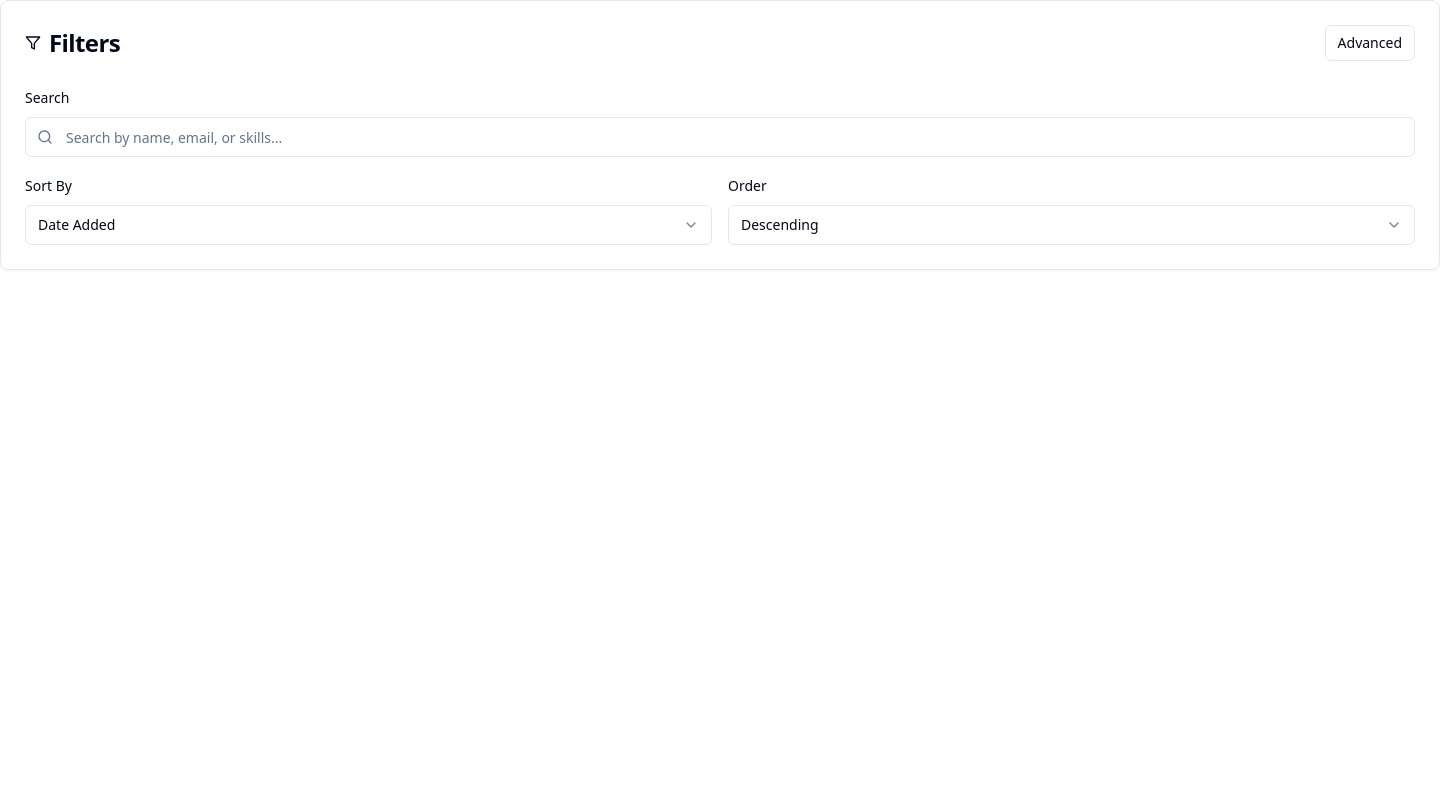
Test: CandidateFilters › adds skill when Enter key is pressed
# Show advanced filters
Click the button "Advanced" at (1370, 43), box [1325, 25, 1415, 61]
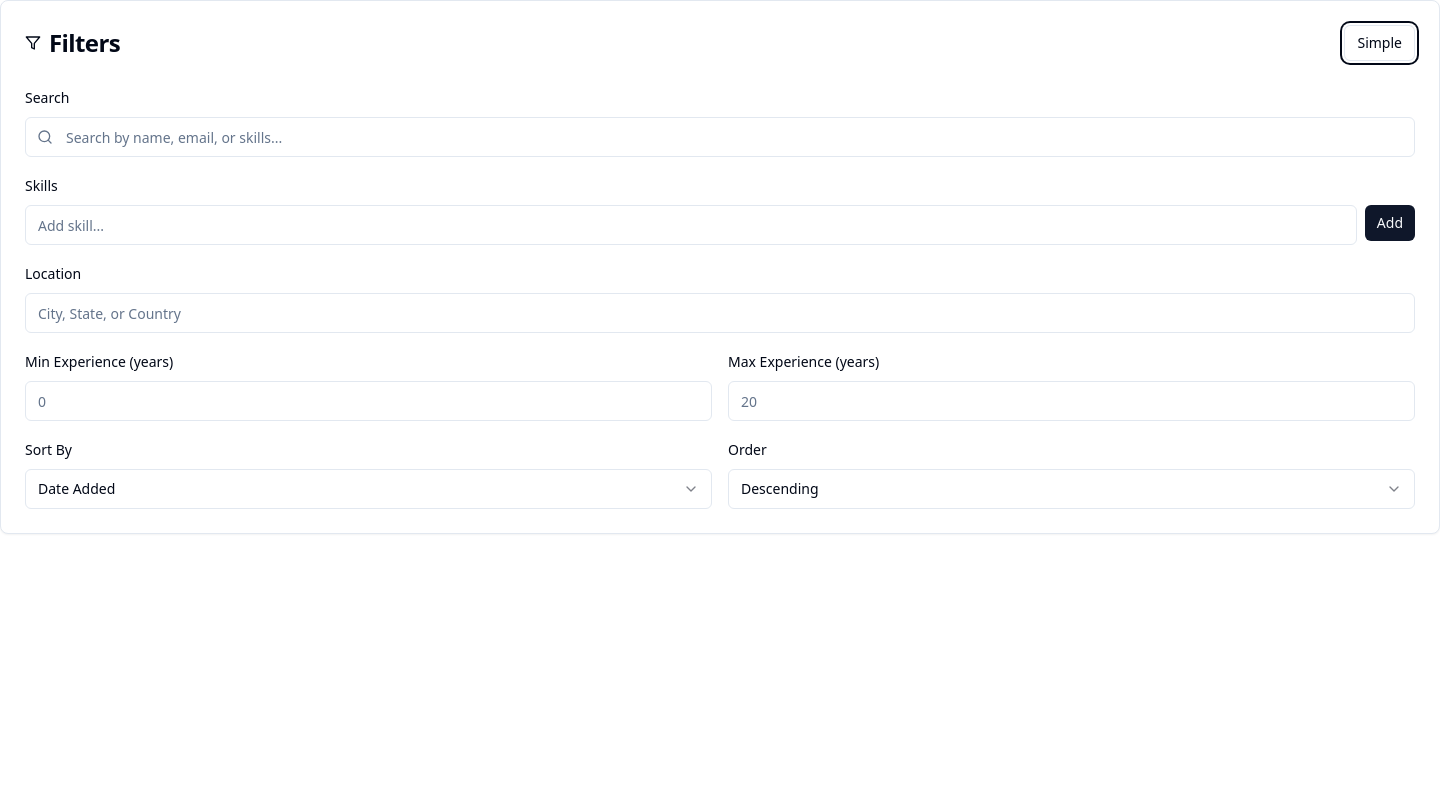
# Add a skill with Enter key
Type "React" into the field with placeholder "Add skill..." at (691, 225), box [25, 205, 1357, 245]
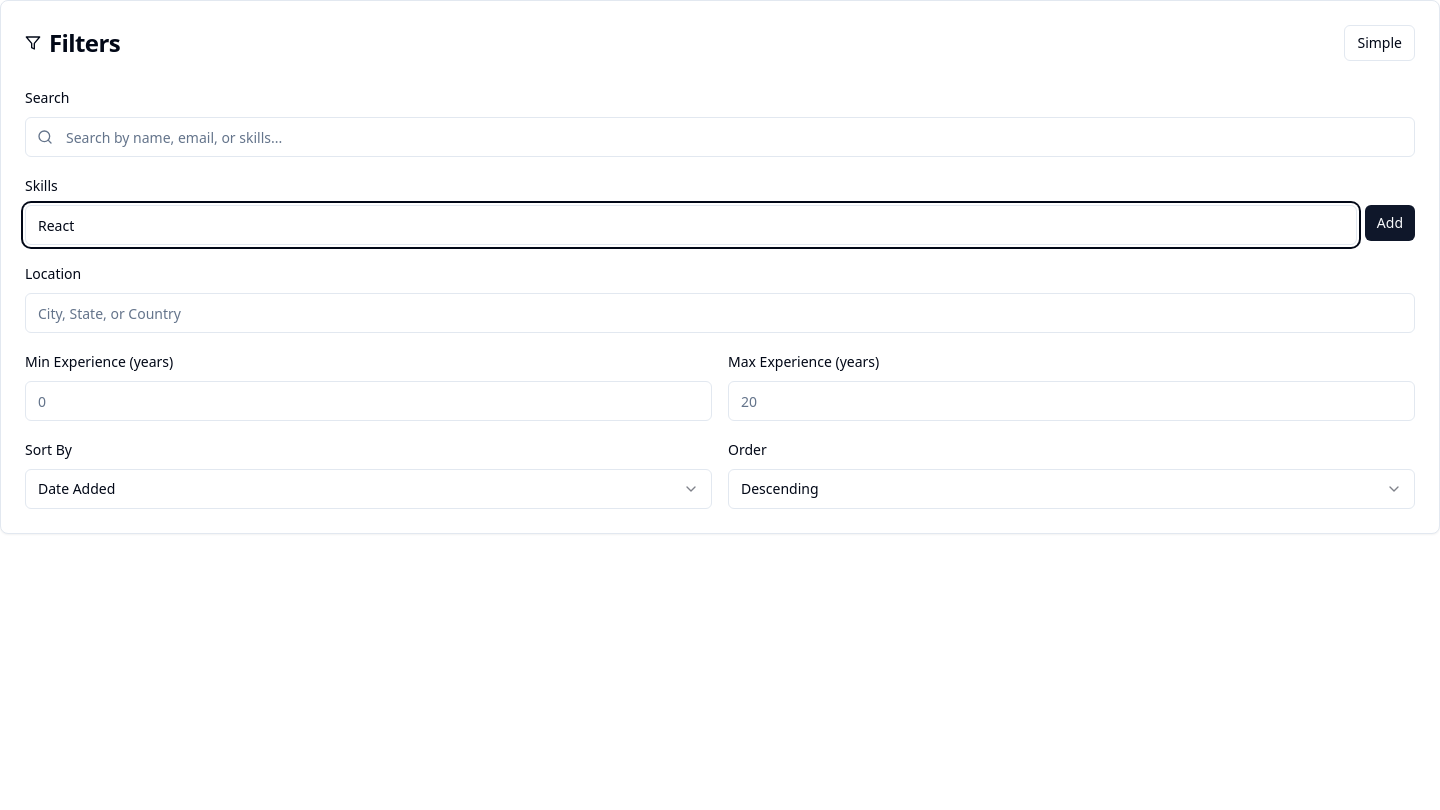
Press Enter
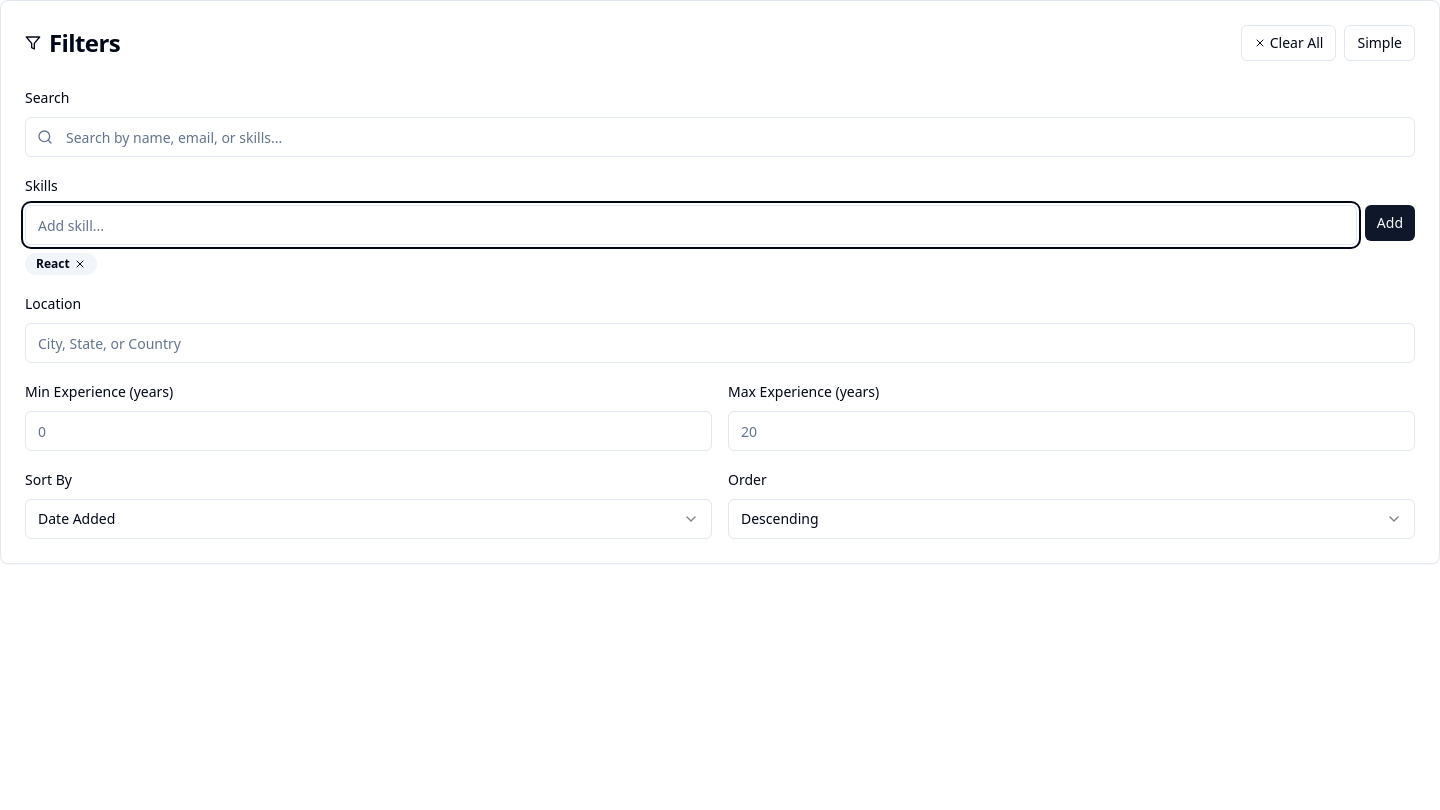
Now the text "React" is shown, box [25, 253, 97, 275]
